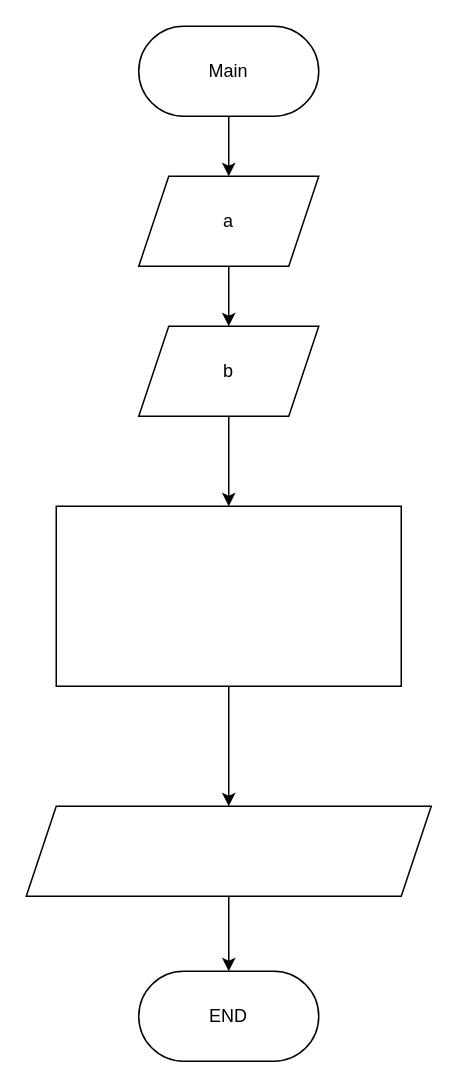
Image size: 458x1088. Some labels were removed from this diagram. The shapes that lost their labels are listed below. From the top down, each one's box as (x1, y1, x2, y2) in pixels, then its label:
(55, 505, 401, 686): tmp = a a = b b = tmp
(25, 805, 431, 896): Swapped numbers: a and b
